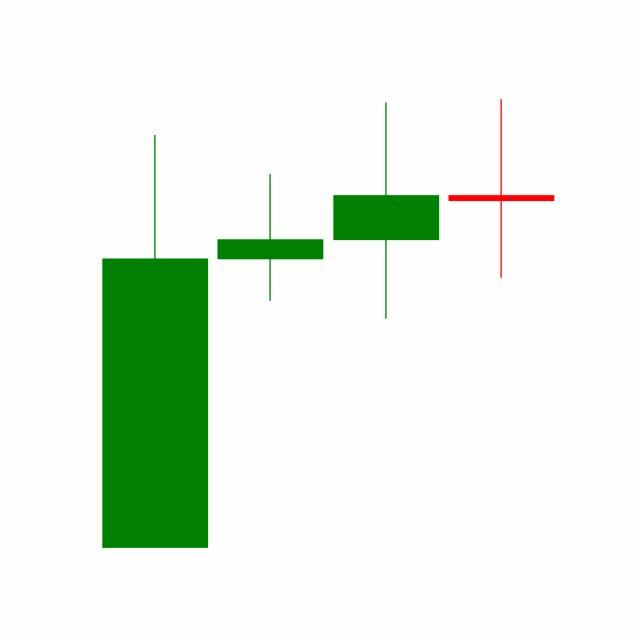Spinning Top: (329, 101, 445, 322)
